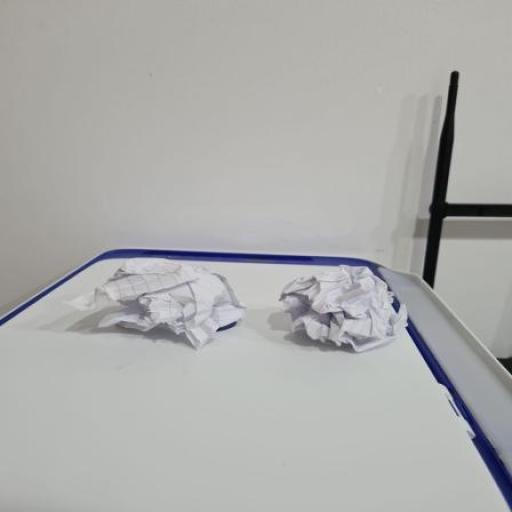paper: (70, 226, 276, 357), (257, 242, 424, 354)
